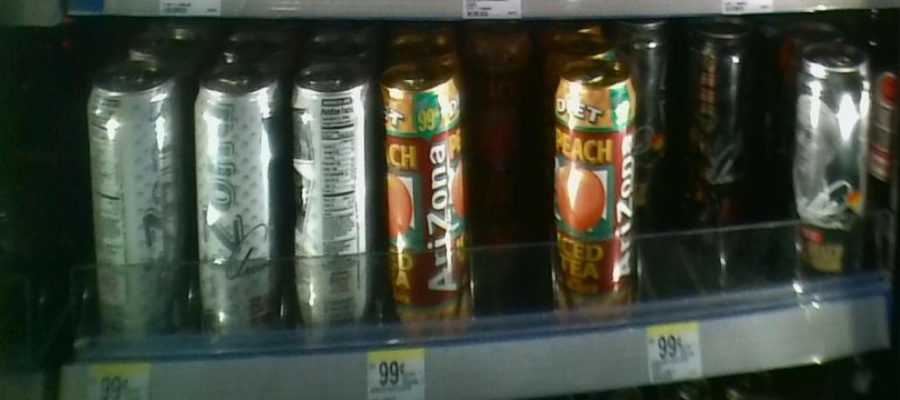bottle: (85, 53, 186, 347), (193, 52, 286, 349), (288, 52, 375, 349), (379, 60, 471, 339), (553, 59, 637, 319), (801, 31, 872, 283), (698, 24, 750, 190), (639, 24, 675, 166)
